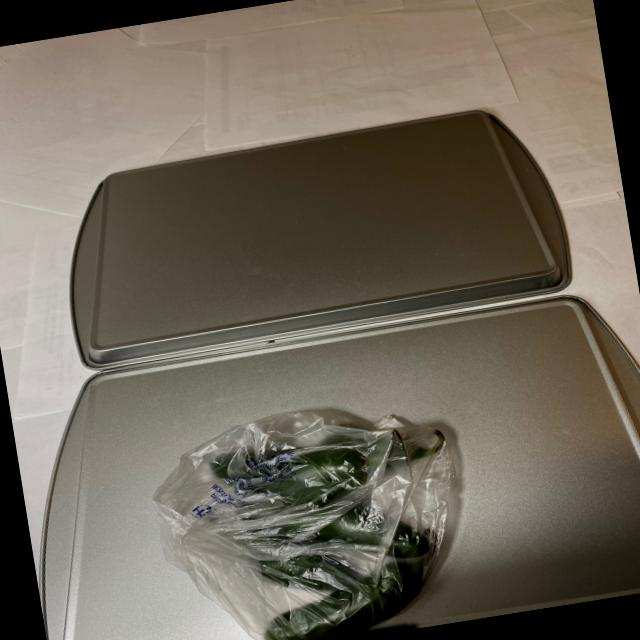chilli: (193, 411, 481, 640)
